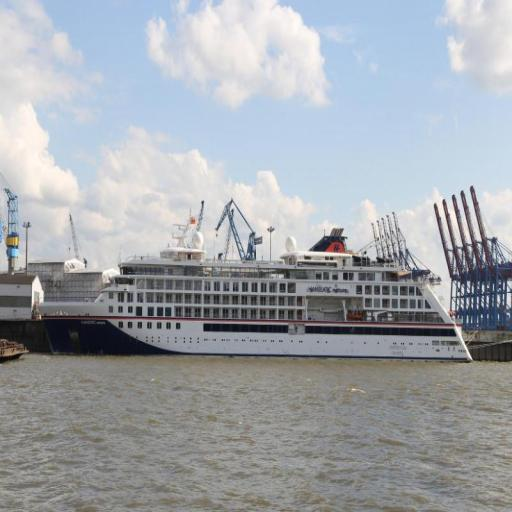cruises: (31, 214, 484, 371)
